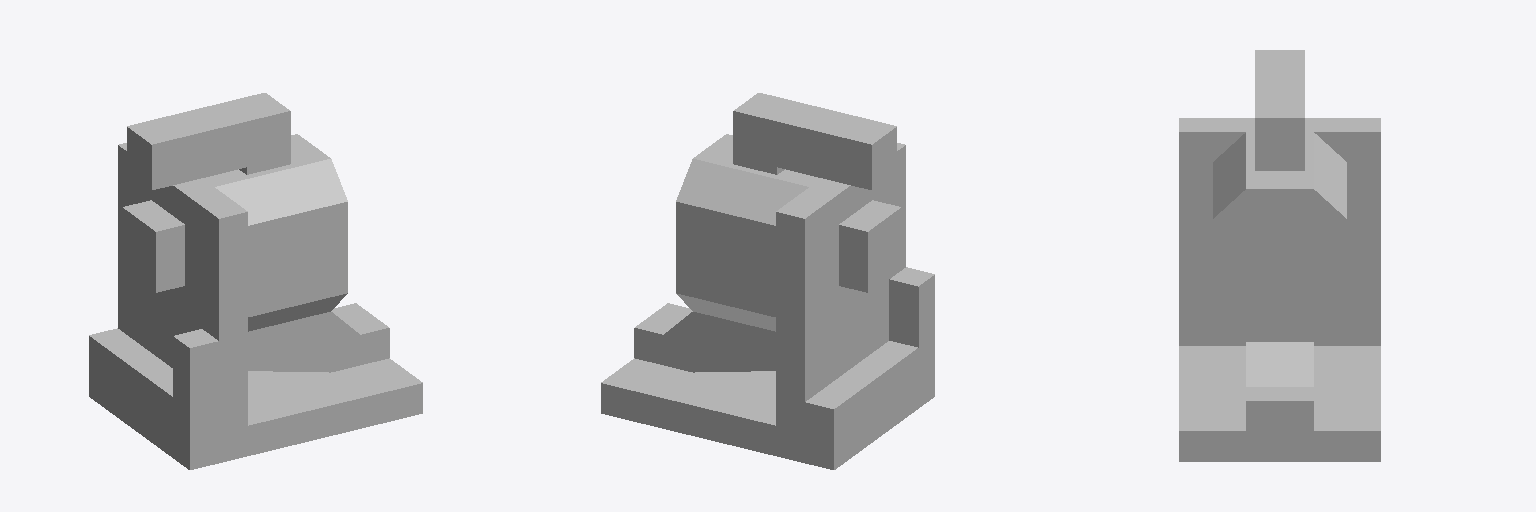
File: grinding_mill.obj
3 renders of one model, left to right at view 1: azimuth 30°, elevation 25°; view 2: azimuth 150°, elevation 25°; view 3: azimuth 270°, elevation 25°, orthographic.
Visible parts, largest first — view 1: cube; view 2: cube; view 3: cube.
Boxes of the visible parts, box(x1,y1,x2,y2) form: cube: box(89, 93, 422, 469); cube: box(601, 93, 934, 469); cube: box(1179, 50, 1380, 461).
Bounding box in the file's own units: 4 × 4.88 × 3.